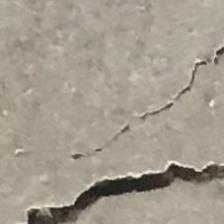Crack: (25, 70, 224, 224)
